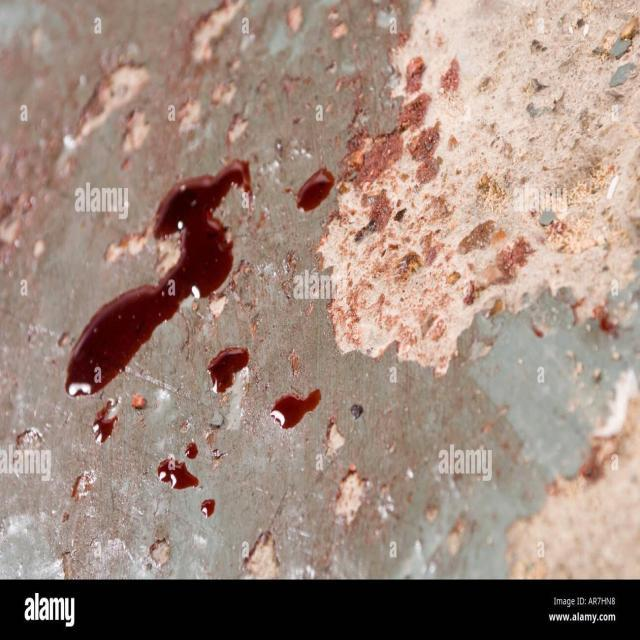flood: (61, 162, 338, 437)
